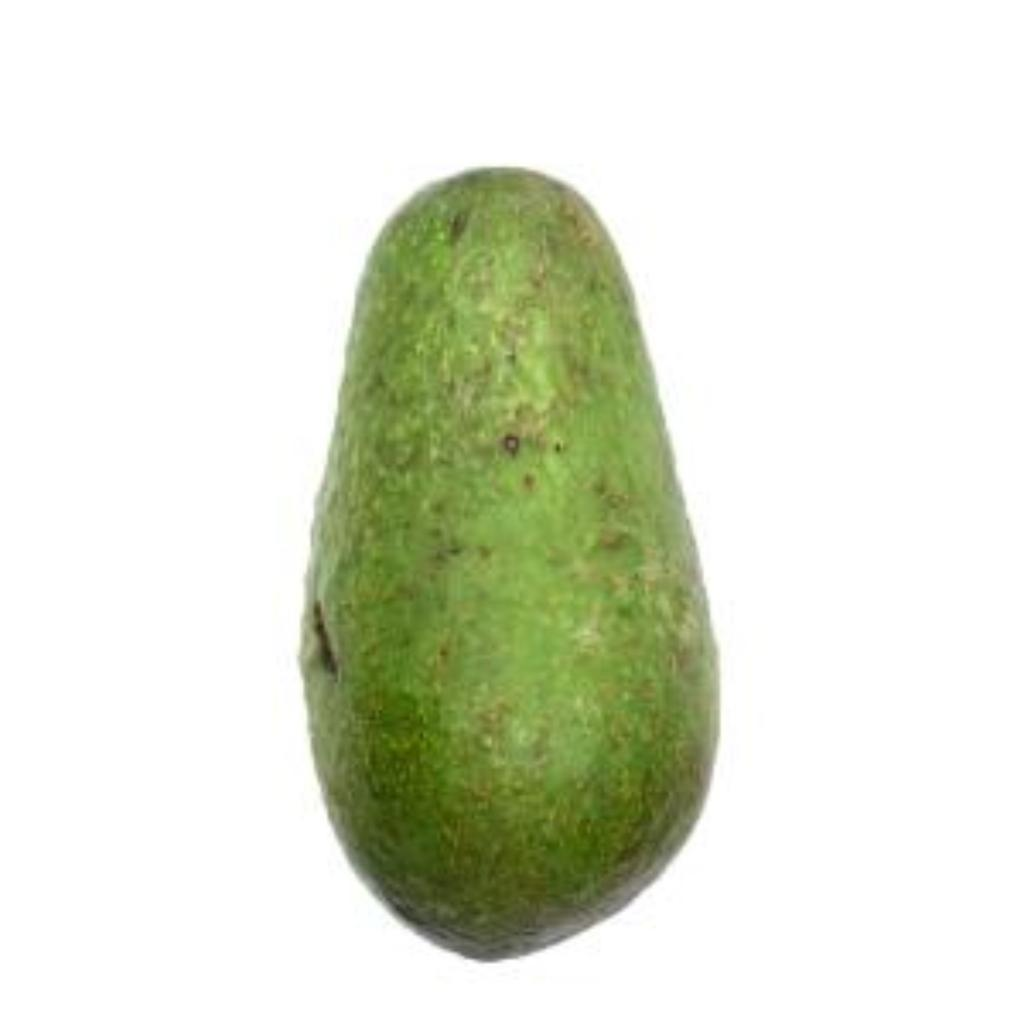cercospora: (286, 157, 738, 969)
